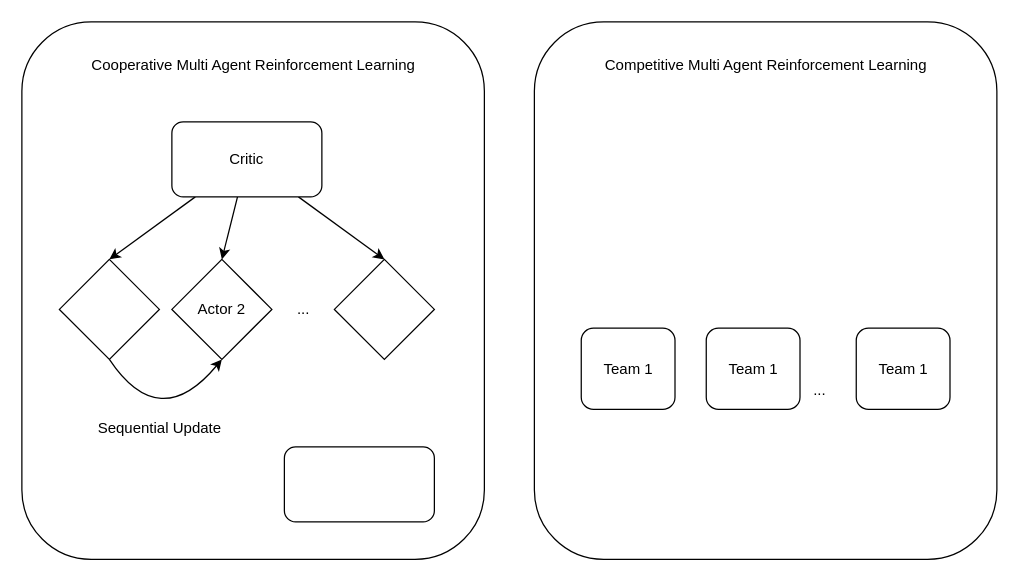
Image size: 1019x581. Some labels were removed from this diagram. Here are the shapes that lost their labels. From the top down, the centre of each, then its label:
At pixel 108 308: "Actor 1".
At pixel 383 308: "Actor N".
At pixel 358 484: "Cooperative Reward".
